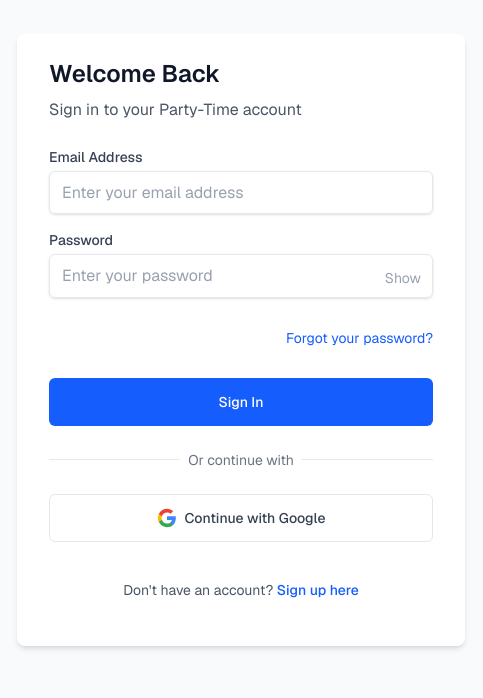
Test: Authentication Flow Integration Tests › Complete Login Flow › should handle network errors during login
Type "test@example.com" into the field labelled "Email Address" at (241, 193), box top-left (49, 171), bottom-right (433, 214)
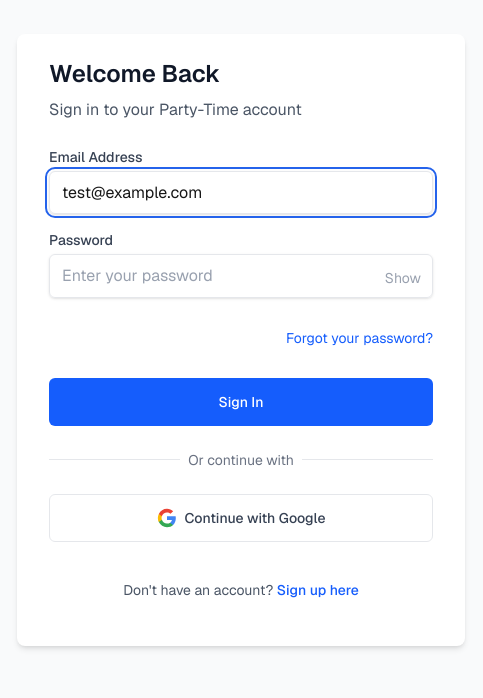
Type "password123" into the password field labelled "Password" at (241, 276), box top-left (49, 254), bottom-right (433, 298)
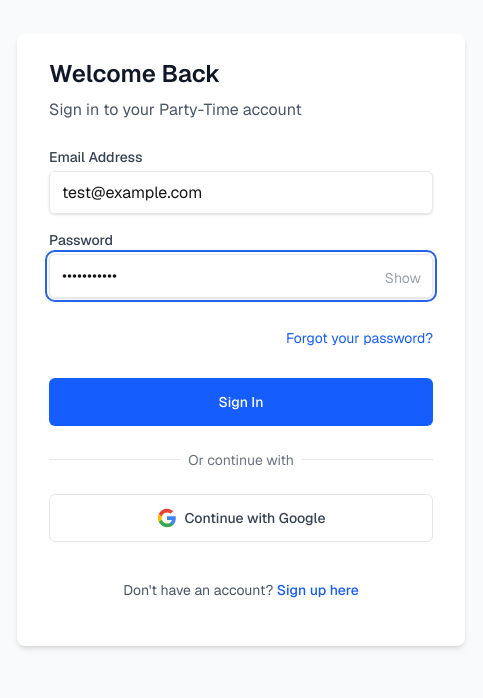
Click the button "Sign In" at (241, 402), box top-left (49, 378), bottom-right (433, 426)
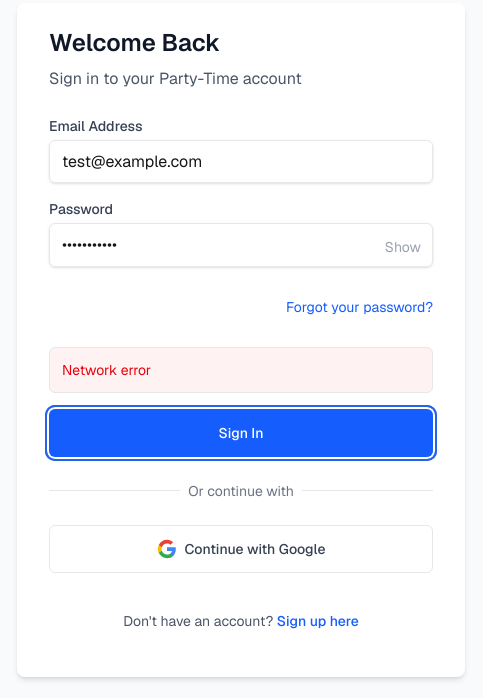
Expected: the text "Network error" is shown, top-left (62, 361), bottom-right (151, 379)
